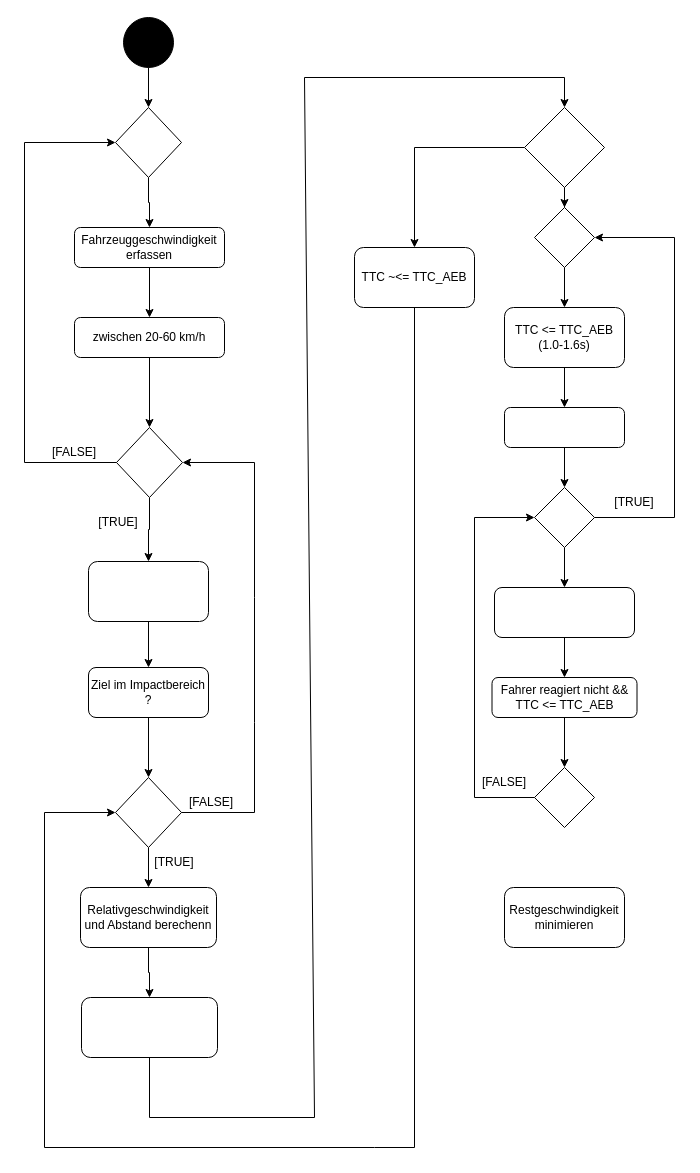
This 700x1173 diagram has some shape labels left out. Here are the shapes that lost their labels. From the top down, the centre of each, then its label:
At (564,427): "Fahrer reagiert aktiv?".
At (148,591): "Ziele erkennen und klassifizieren".
At (564,612): "Notbtremsanforderung (>= 5 m/s^2) an Servicebremse senden".
At (149,1027): "TTC berechnen [TTC = D / V]".
